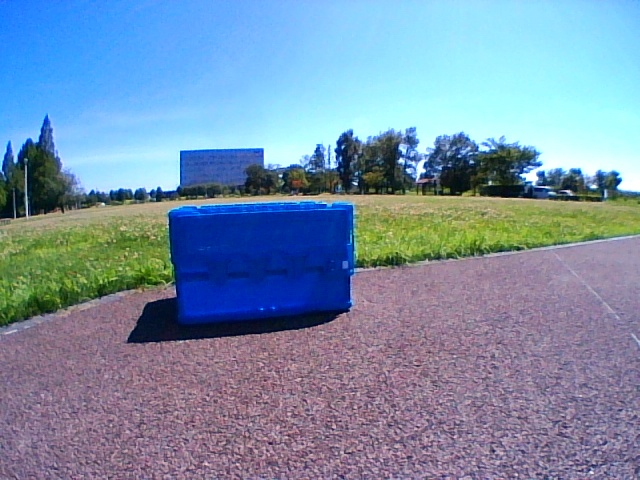blue_box: (168, 202, 354, 326)
